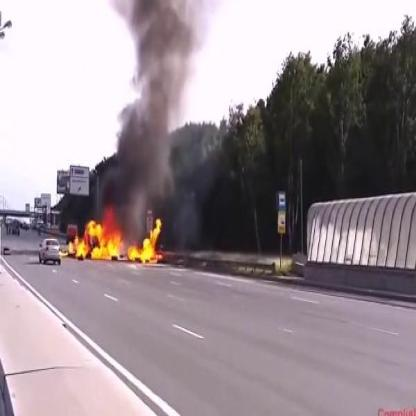fire: (66, 213, 166, 266)
